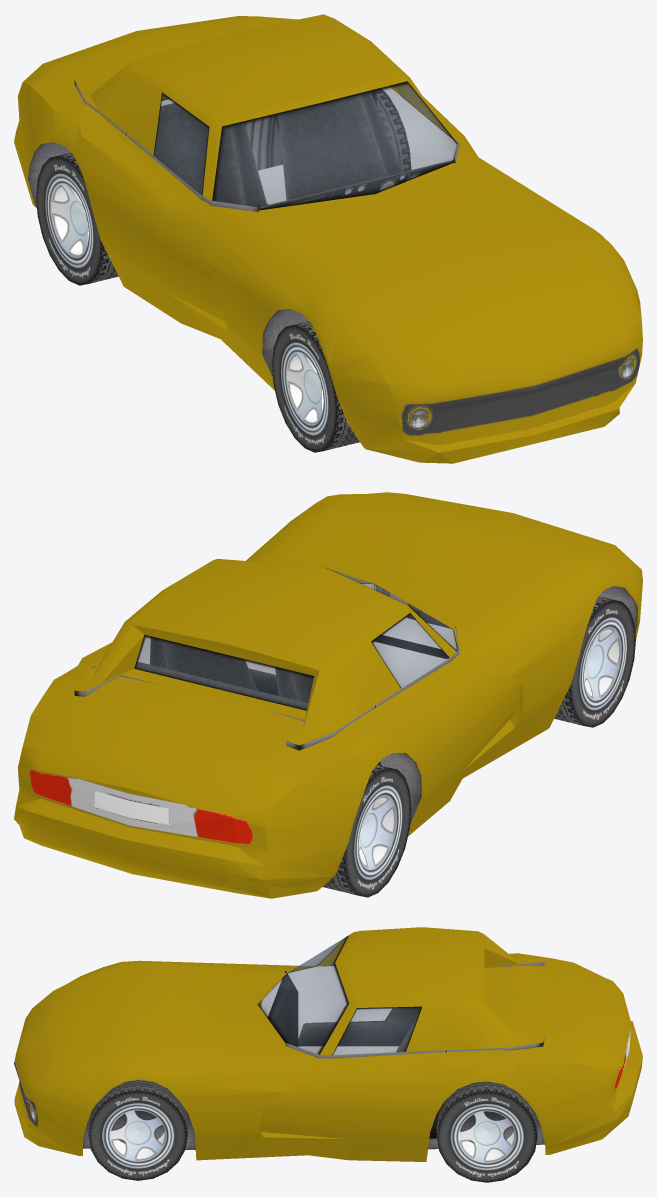
The picture shows the model from 3 angles, top to bottom: view 1: azimuth 30°, elevation 25°; view 2: azimuth 150°, elevation 25°; view 3: azimuth 270°, elevation 25°; orthographic projection. The views are drawn at different scales.
Parts seen in each view (by area): view 1: BODY, INTERIOR, WHEEL_0, WHEEL_2, WHEEL_3; view 2: BODY, INTERIOR, WHEEL_2, WHEEL_0; view 3: BODY, WHEEL_3, WHEEL_1, INTERIOR.
Boxes of the visible parts, <box> form: BODY: <box>14,14,642,463</box>; INTERIOR: <box>74,80,459,211</box>; WHEEL_0: <box>272,321,359,452</box>; WHEEL_2: <box>36,152,118,285</box>; WHEEL_3: <box>376,90,411,171</box>; BODY: <box>14,492,642,898</box>; INTERIOR: <box>74,625,459,765</box>; WHEEL_2: <box>323,764,411,897</box>; WHEEL_0: <box>554,596,635,727</box>; BODY: <box>14,927,642,1161</box>; WHEEL_3: <box>436,1081,537,1182</box>; WHEEL_1: <box>88,1079,187,1180</box>; INTERIOR: <box>268,961,544,1138</box>.
Size of the model in its own units: 1.89 by 1.2 by 4.13.
17 materials, 17 textured.
